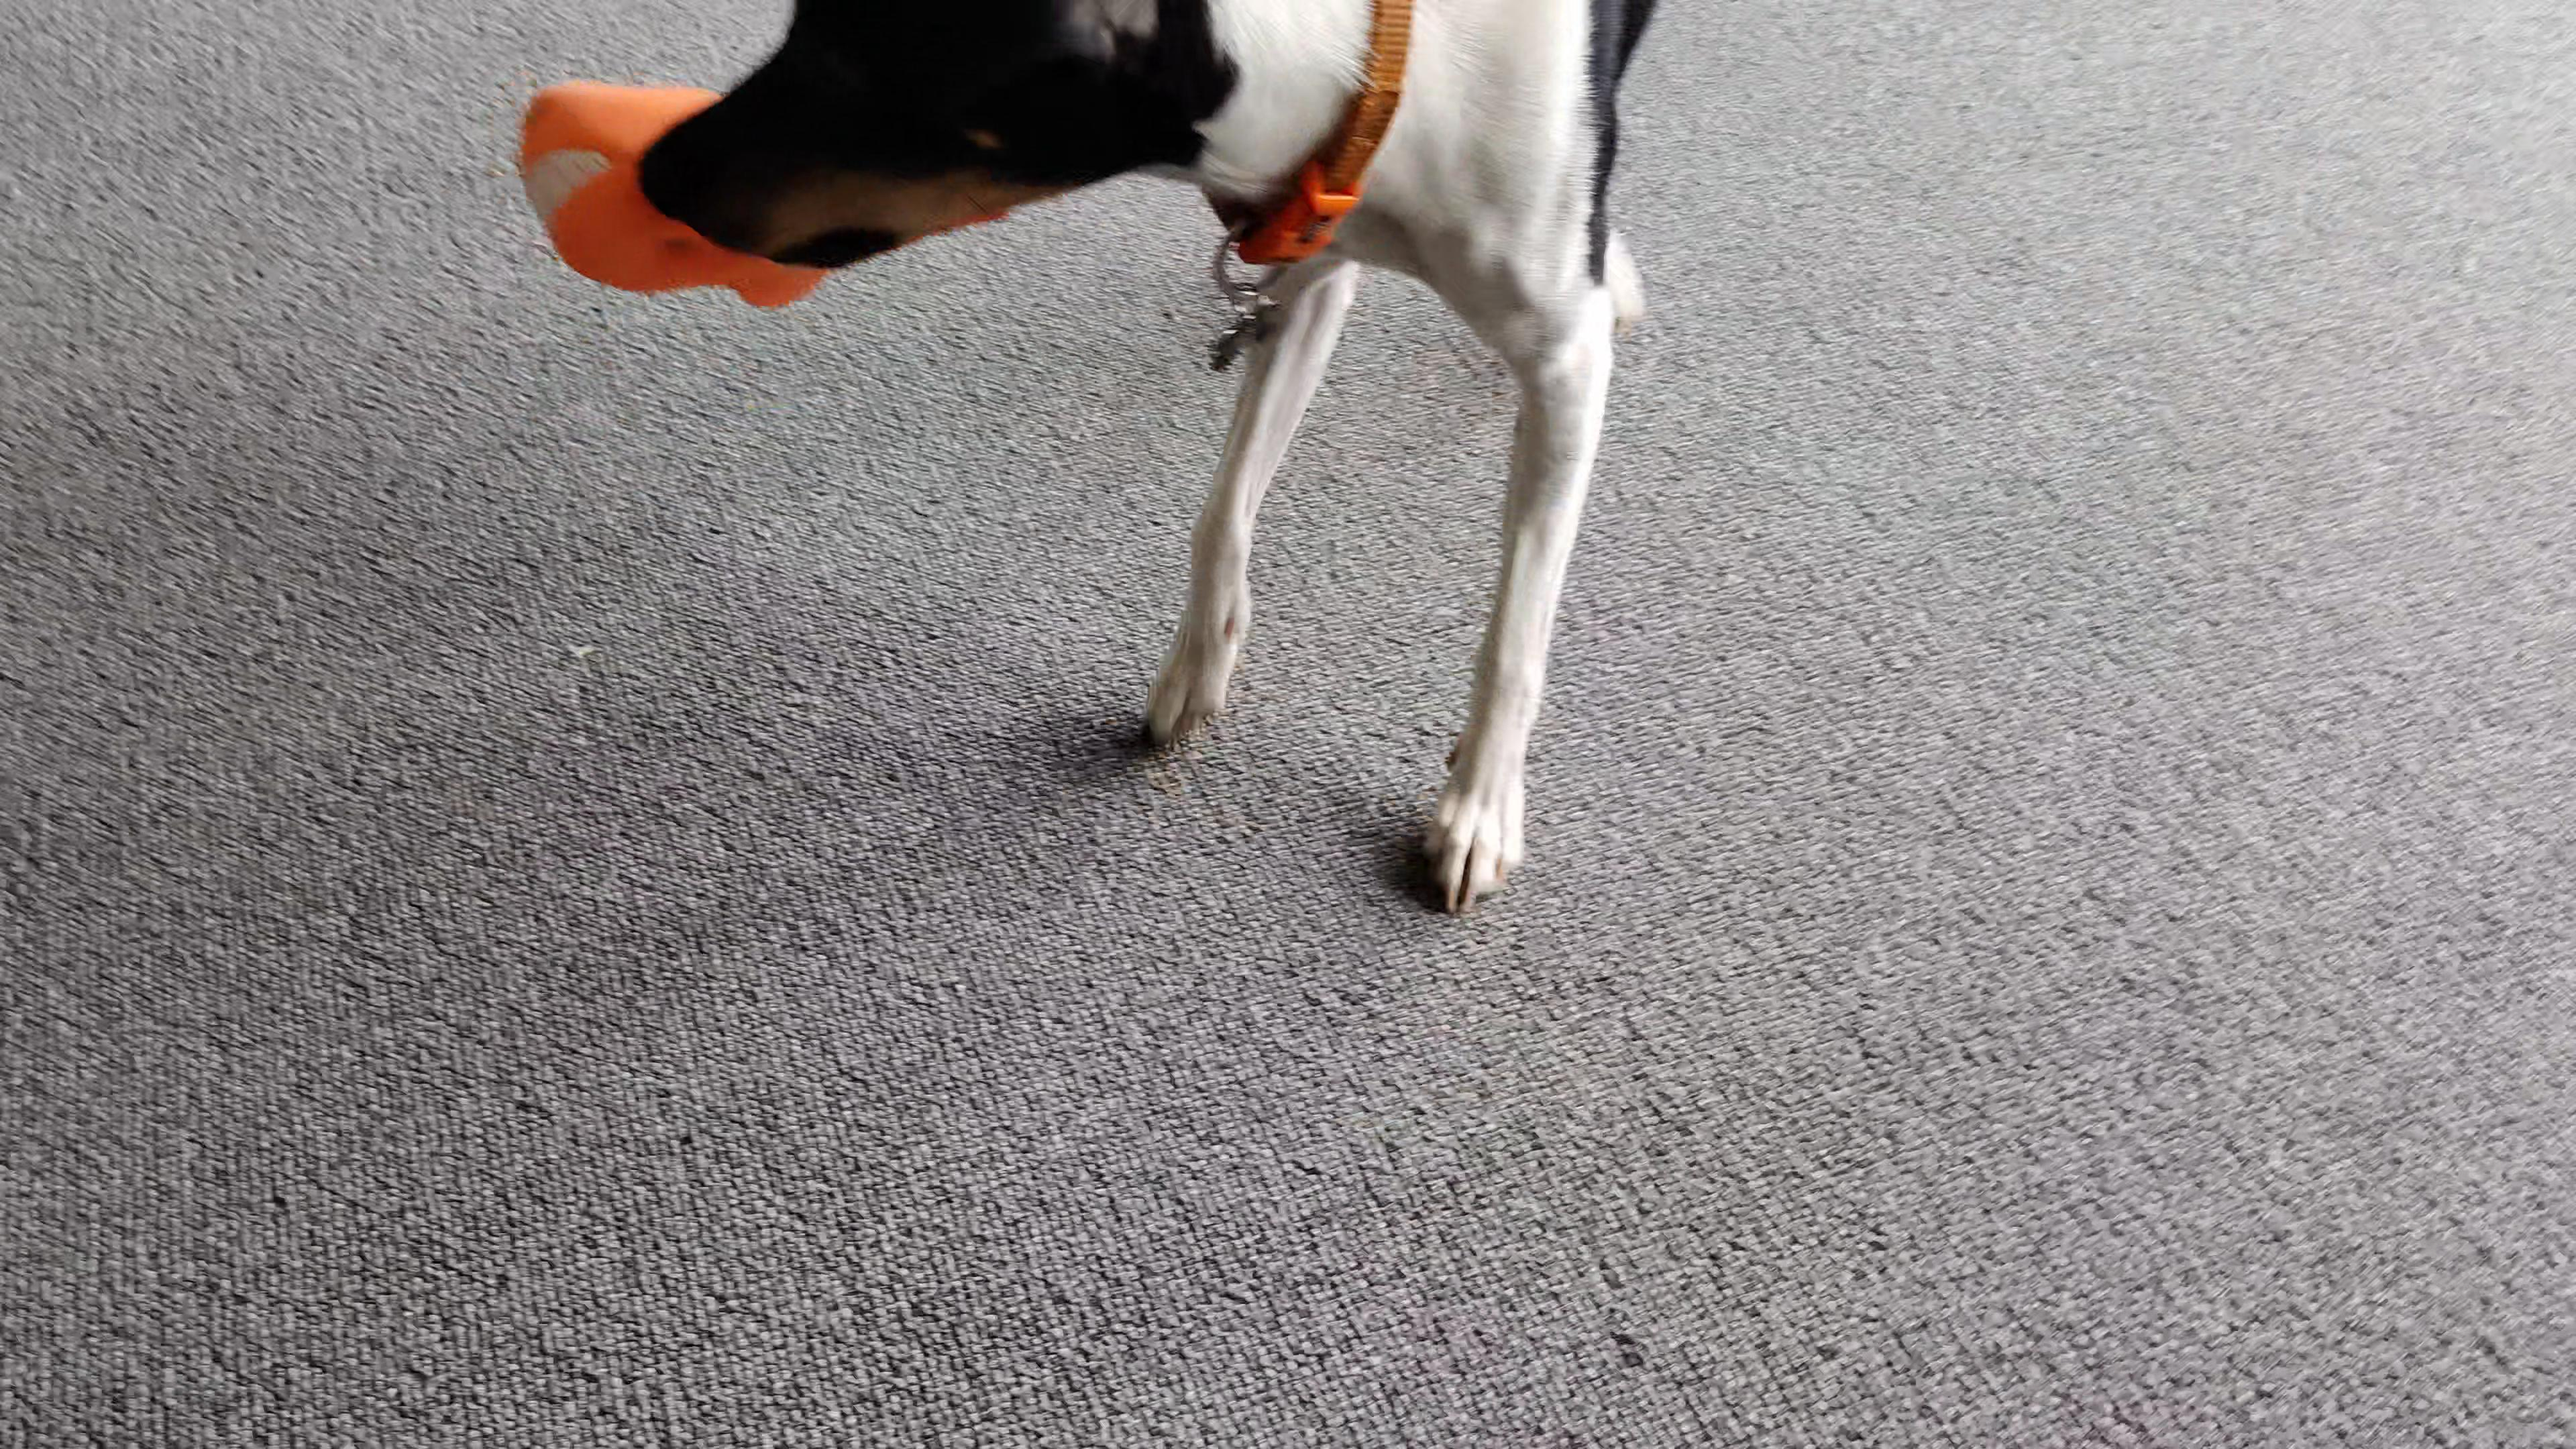Dog: (617, 0, 1690, 945)
